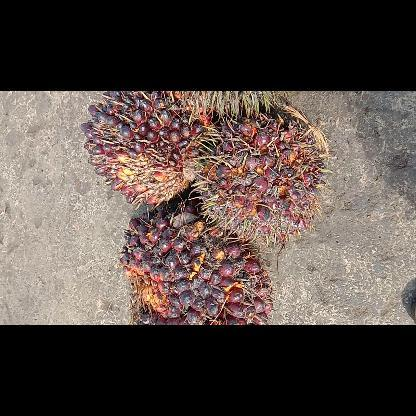Kurang masak: (196, 108, 332, 246), (80, 90, 210, 202)
TBS masak: (119, 198, 272, 324)
